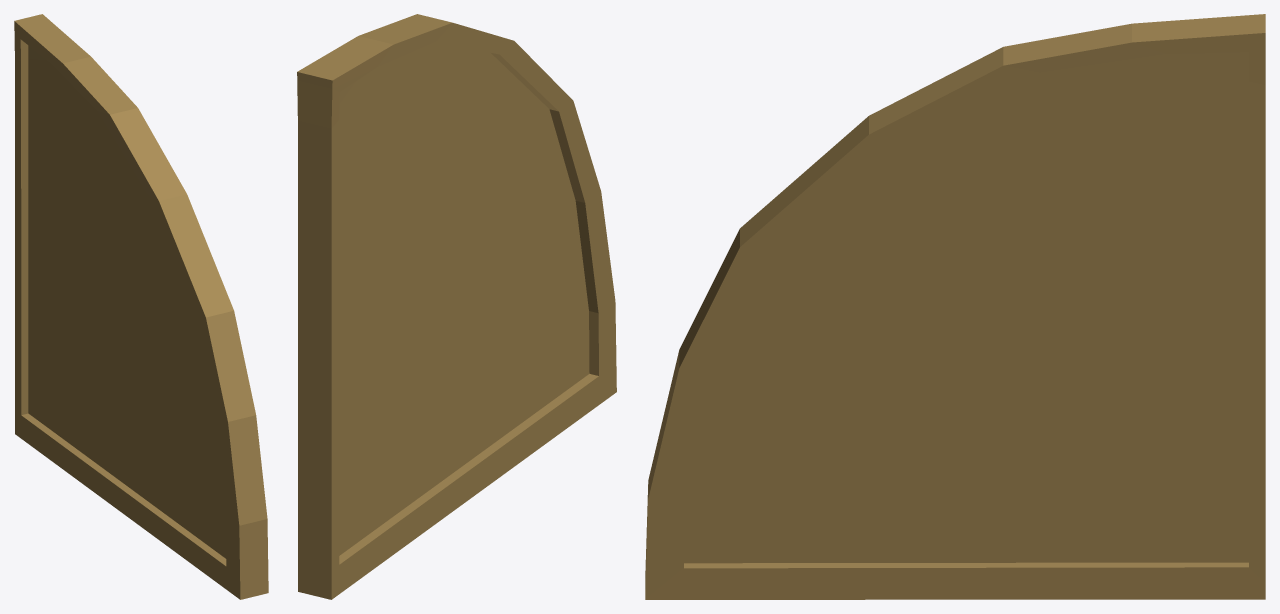
The model's file is BlenderOntwikkelingDoor.fbx.
3 renders of one model, left to right at view 1: azimuth 30°, elevation 25°; view 2: azimuth 150°, elevation 25°; view 3: azimuth 270°, elevation 25°, orthographic. The views are drawn at different scales.
Visible parts, largest first — view 1: Door01; view 2: Door01; view 3: Door01.
Boxes of the visible parts, x1=… form: Door01: x1=14, y1=14, x2=268, y2=599; Door01: x1=297, y1=14, x2=616, y2=599; Door01: x1=645, y1=14, x2=1265, y2=599.
Bounding box in the file's own units: 13.49 × 188 × 187.
